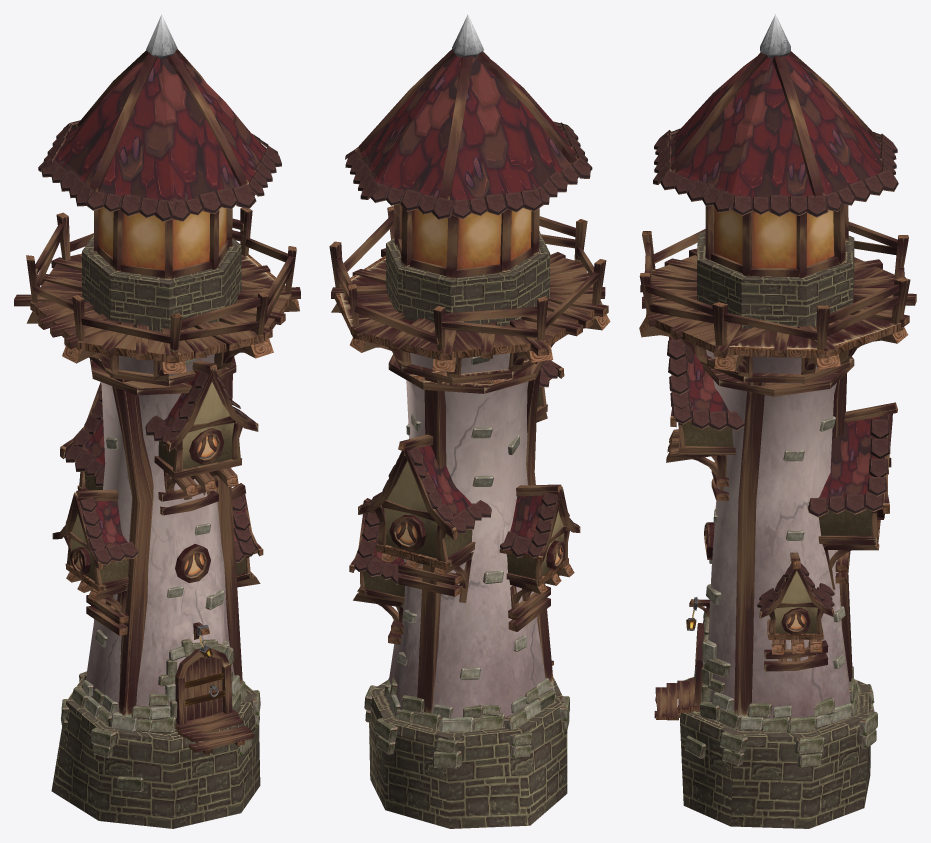
The model's file is Lighthouse.fbx.
The picture shows the model from 3 angles, left to right: view 1: azimuth 30°, elevation 25°; view 2: azimuth 150°, elevation 25°; view 3: azimuth 270°, elevation 25°; orthographic projection.
Parts seen in each view (by area): view 1: node_id105 (×23); view 2: node_id105 (×23); view 3: node_id105 (×26).
Boxes of the visible parts, x1,y1,x2,y2 form: node_id105 (×23): (14, 14, 300, 828); node_id105 (×23): (329, 14, 610, 828); node_id105 (×26): (639, 14, 916, 828).
Bounding box in the file's own units: 0.1619 × 0.512 × 0.1661.
